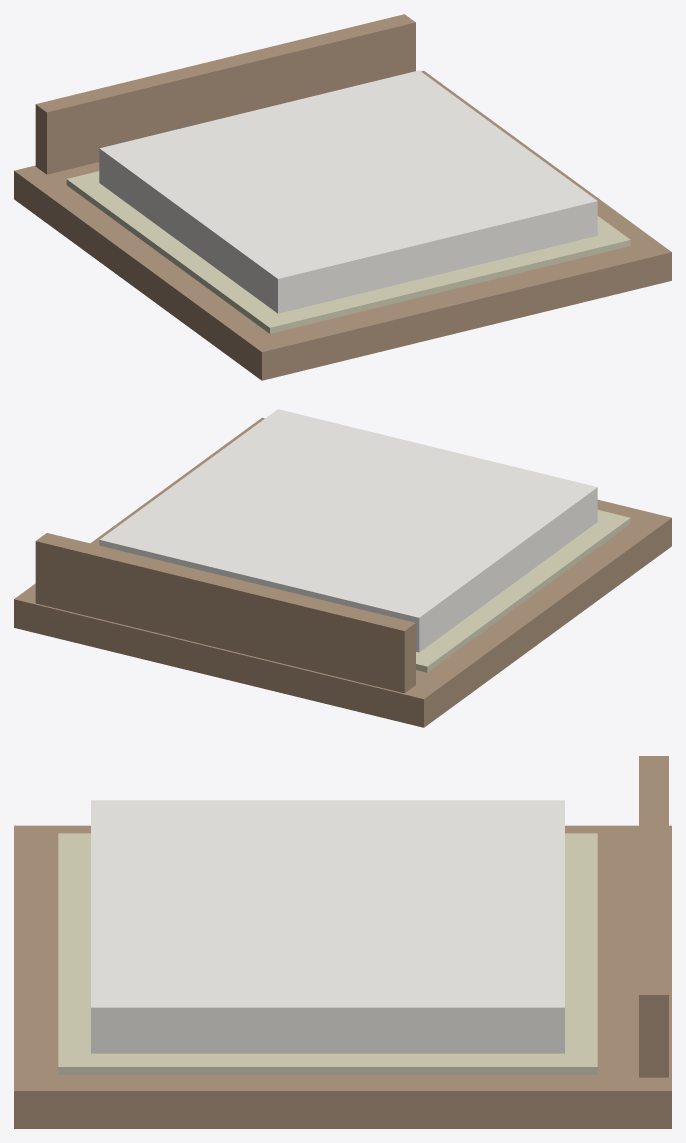
Rendered from BED-004.glb.
3 renders of one model, top to bottom at view 1: azimuth 30°, elevation 25°; view 2: azimuth 150°, elevation 25°; view 3: azimuth 270°, elevation 25°, orthographic. The views are drawn at different scales.
Visible parts, largest first — view 1: Cube.002, Cube, Cube.003, Cube.001; view 2: Cube.002, Cube.003, Cube, Cube.001; view 3: Cube.002, Cube, Cube.001, Cube.003.
Boxes of the visible parts, x1,y1,x2,y2 form: Cube.002: [99, 70, 597, 313]; Cube: [14, 70, 671, 380]; Cube.003: [35, 14, 415, 174]; Cube.001: [66, 171, 630, 333]; Cube.002: [99, 409, 597, 652]; Cube.003: [35, 533, 415, 693]; Cube: [14, 417, 671, 727]; Cube.001: [416, 510, 630, 672]; Cube.002: [91, 800, 564, 1053]; Cube: [14, 825, 671, 1128]; Cube.001: [58, 833, 597, 1074]; Cube.003: [639, 756, 668, 1077].
Bounding box in the file's own units: 2.1 × 0.445 × 2.2.
